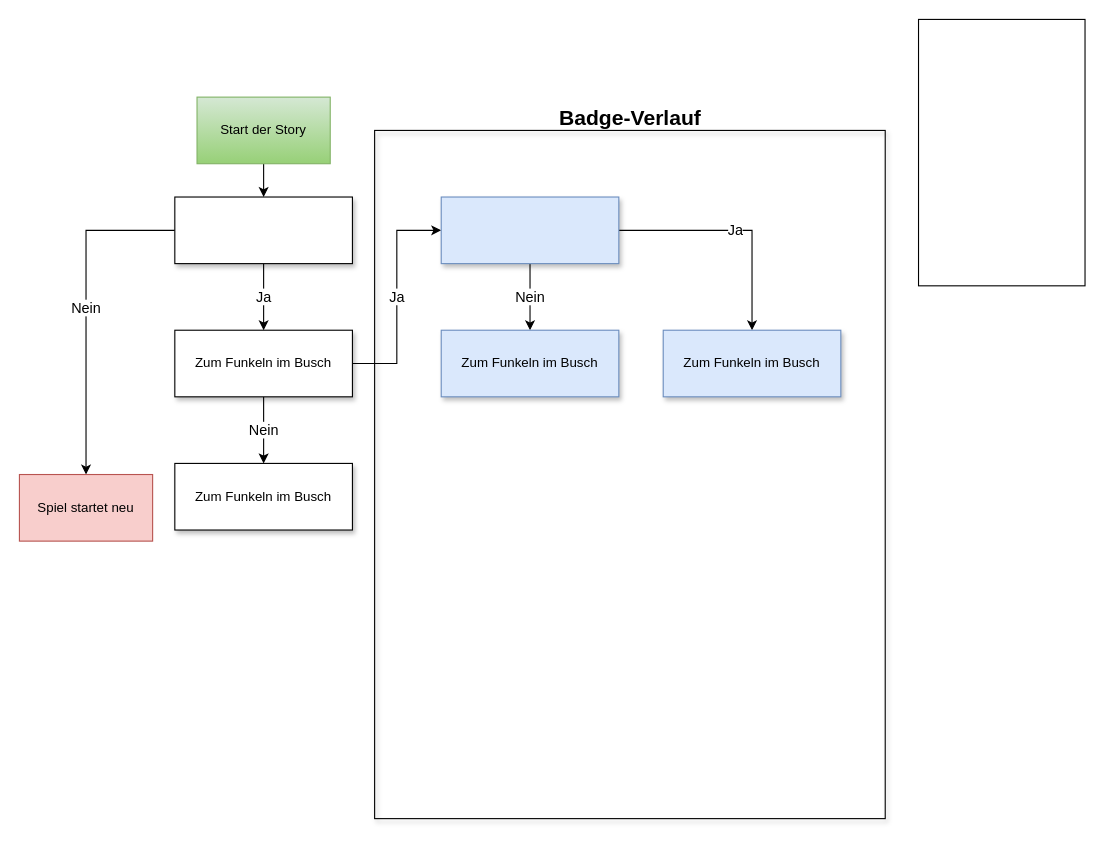
Some shapes in this 1104 by 846 pixel diagram are drawn without their labels. The shapes that lost their labels are listed below. From the top down, each one's centre as x and y in pixels, then its label:
At (x=1001, y=152): "Gegenstände: Handschuhe Kopfhörer Schal".
At (x=264, y=231): "Zu den Säulen gehen".
At (x=530, y=231): "Fäustlinge aus?".
